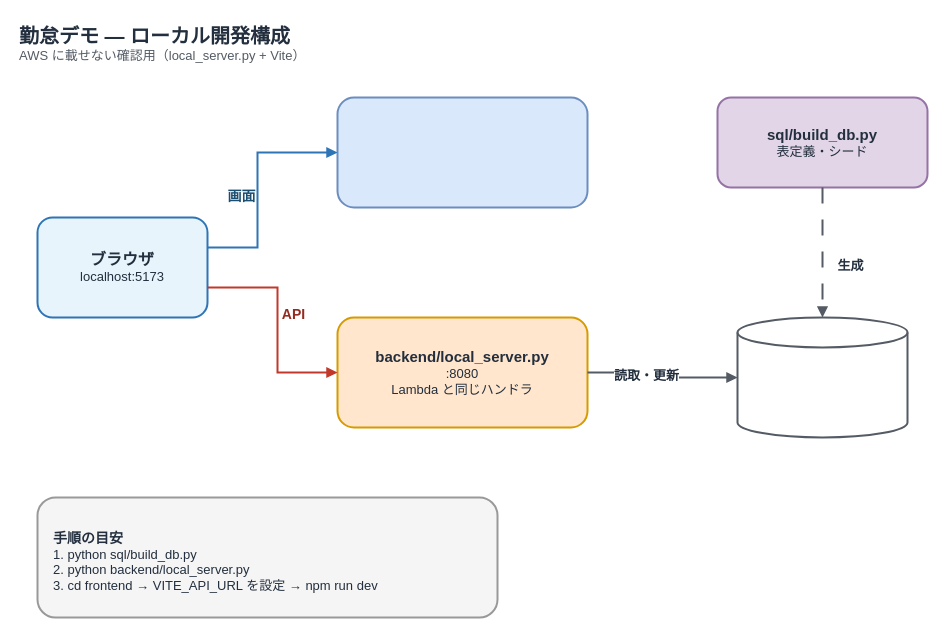
Some shapes in this 945 by 635 pixel diagram are drawn without their labels. The centre of each missing label's shape, as x and y in pixels:
"frontend/ npm run dev VITE_API_URL= http://127.0.0.1:8080" goes at (462,152).
"SQLite backend/data/ attendance.db" goes at (822,377).
